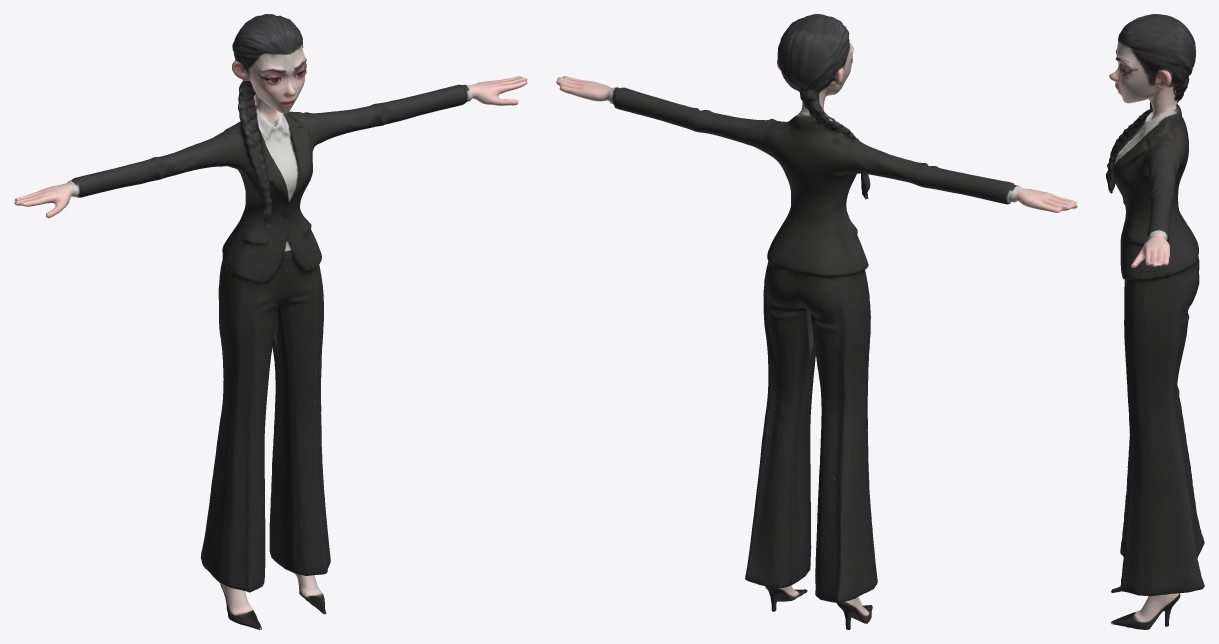
Rendered from Meshy_AI_Braided_Businesswoman_0108084510_texture.fbx.
3 views of the same model, side by side, from view 1: azimuth 30°, elevation 25°; view 2: azimuth 150°, elevation 25°; view 3: azimuth 270°, elevation 25° (orthographic).
Visible parts, largest first — view 1: Mesh_0; view 2: Mesh_0; view 3: Mesh_0.
Boxes of the visible parts, bbox=[...] form: Mesh_0: bbox=[14, 14, 527, 629]; Mesh_0: bbox=[556, 14, 1077, 629]; Mesh_0: bbox=[1106, 14, 1204, 629].
Bounding box in the file's own units: 175 × 192 × 29.
1 material, 1 textured.
